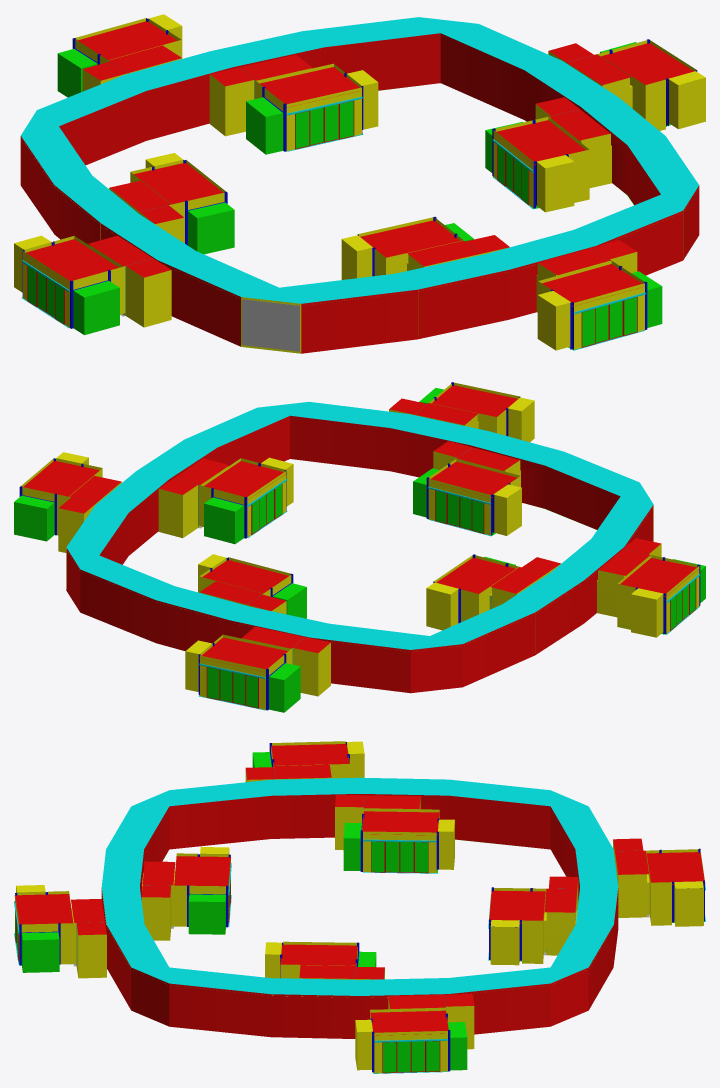
The model's file is GRP_Stage_001.fbx.
3 renders of one model, top to bottom at view 1: azimuth 30°, elevation 25°; view 2: azimuth 150°, elevation 25°; view 3: azimuth 270°, elevation 25°, orthographic. The views are drawn at different scales.
Visible parts, largest first — view 1: SM_Ceilling_001 (×4), SM_Wall_001 (×2), SM_Wall_002 (×2), SM_RoomCeilling_001 (×8), SM_RoomCeilling_002 (×8), SM_ClosetWall_003 (×4), SM_RoomWall_003 (×4), SM_AlcoveWall001 (×4), SM_RoomWall_004 (×3), SM_EventWall_001, SM_InsideWall_006 (×2), SM_InsideWall_005 (×2) (+6 smaller); view 2: SM_Ceilling_001 (×4), SM_Wall_001 (×2), SM_Wall_002 (×2), SM_RoomCeilling_001 (×8), SM_RoomCeilling_002 (×8), SM_RoomWall_003 (×4), SM_ClosetWall_003 (×3), SM_AlcoveWall001 (×3), SM_InsideWall_006 (×3), SM_Corner_001 (×2), SM_RoomWall_004 (×2), SM_InsideWall_005 (×2) (+5 smaller); view 3: SM_Ceilling_001 (×4), SM_Wall_001 (×3), SM_Wall_002 (×3), SM_RoomCeilling_001 (×8), SM_RoomCeilling_002 (×8), SM_RoomWall_004 (×2), SM_ClosetWall_003 (×2), SM_InsideWall_006 (×2), SM_RoomWall_003 (×2), SM_AlcoveWall001 (×2), SM_Corner_001 (×2), SM_Corner_002 (×2) (+5 smaller).
Boxes of the visible parts, box(x1,y1,x2,y2) form: SM_Ceilling_001 (×4): box(21, 17, 698, 303); SM_Wall_001 (×2): box(20, 136, 682, 353); SM_Wall_002 (×2): box(59, 33, 660, 205); SM_RoomCeilling_001 (×8): box(22, 21, 693, 306); SM_RoomCeilling_002 (×8): box(88, 45, 631, 275); SM_ClosetWall_003 (×4): box(57, 54, 265, 335); SM_RoomWall_003 (×4): box(23, 87, 644, 349); SM_AlcoveWall001 (×4): box(341, 77, 705, 350); SM_RoomWall_004 (×3): box(386, 54, 645, 274); SM_EventWall_001: box(242, 299, 299, 351); SM_InsideWall_006 (×2): box(144, 74, 225, 327); SM_InsideWall_005 (×2): box(125, 80, 254, 327); SM_Ceilling_001 (×4): box(66, 401, 653, 649); SM_Wall_001 (×2): box(80, 505, 653, 693); SM_Wall_002 (×2): box(99, 415, 620, 564); SM_RoomCeilling_001 (×8): box(23, 385, 699, 672); SM_RoomCeilling_002 (×8): box(69, 403, 649, 648); SM_RoomWall_003 (×4): box(200, 471, 699, 709); SM_ClosetWall_003 (×3): box(14, 502, 300, 712); SM_AlcoveWall001 (×3): box(426, 488, 656, 637); SM_InsideWall_006 (×3): box(58, 489, 330, 695); SM_Corner_001 (×2): box(66, 547, 436, 693); SM_RoomWall_004 (×2): box(479, 555, 651, 617); SM_InsideWall_005 (×2): box(183, 485, 318, 696); SM_Ceilling_001 (×4): box(101, 777, 618, 995); SM_Wall_001 (×3): box(101, 888, 618, 1038); SM_Wall_002 (×3): box(140, 794, 579, 900); SM_RoomCeilling_001 (×8): box(14, 744, 705, 1035); SM_RoomCeilling_002 (×8): box(71, 764, 648, 1008); SM_RoomWall_004 (×2): box(543, 852, 650, 958); SM_ClosetWall_003 (×2): box(23, 901, 225, 972); SM_InsideWall_006 (×2): box(78, 897, 170, 978); SM_RoomWall_003 (×2): box(363, 831, 447, 1073); SM_AlcoveWall001 (×2): box(490, 888, 703, 965); SM_Corner_001 (×2): box(131, 967, 569, 1026); SM_Corner_002 (×2): box(150, 967, 588, 1026).
Size of the model in its own units: 3631 by 251 by 3631.
